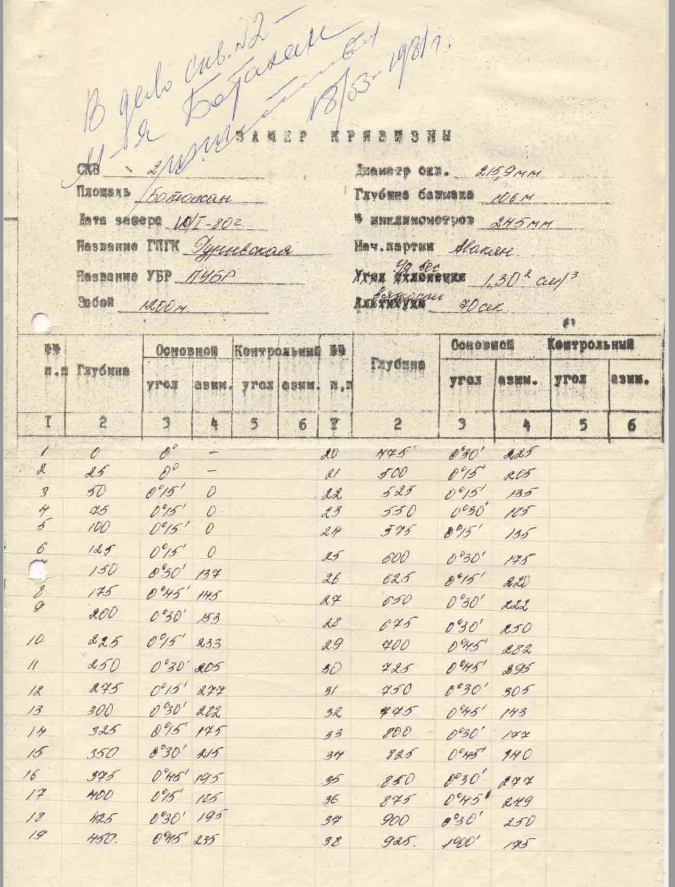Borderless: (11, 335, 667, 857)
